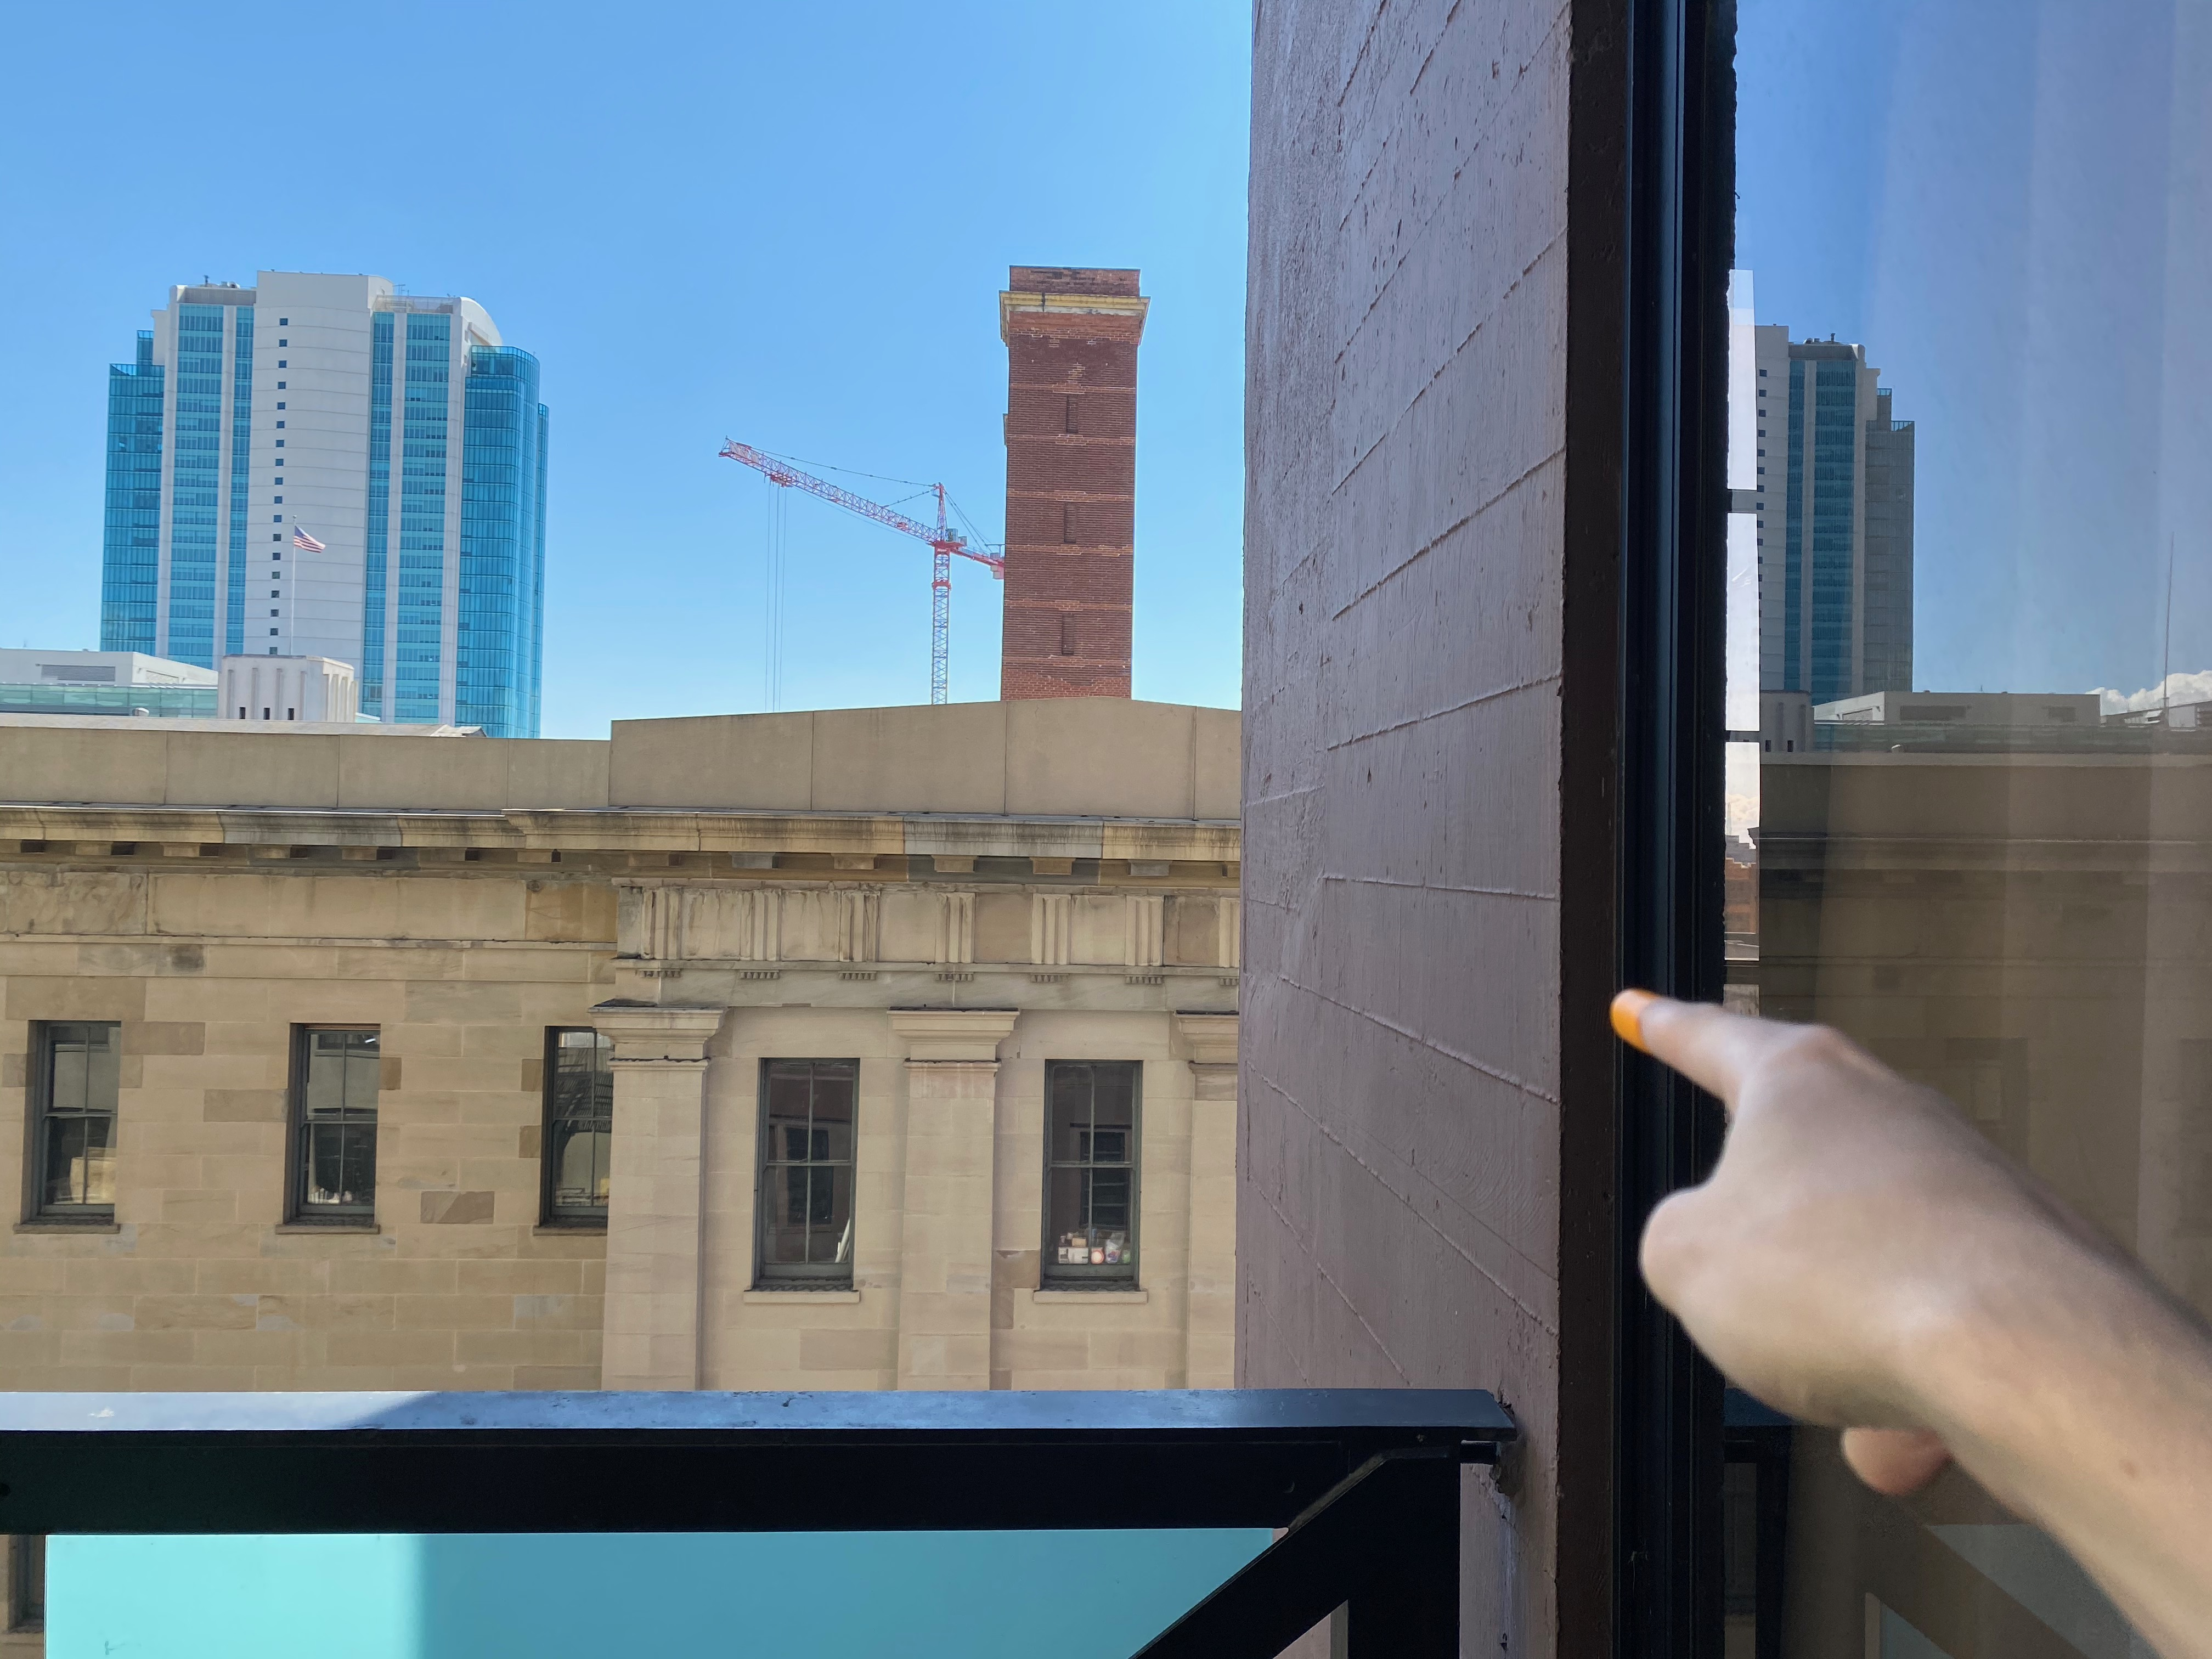fingertip: (1594, 981, 1689, 1068)
